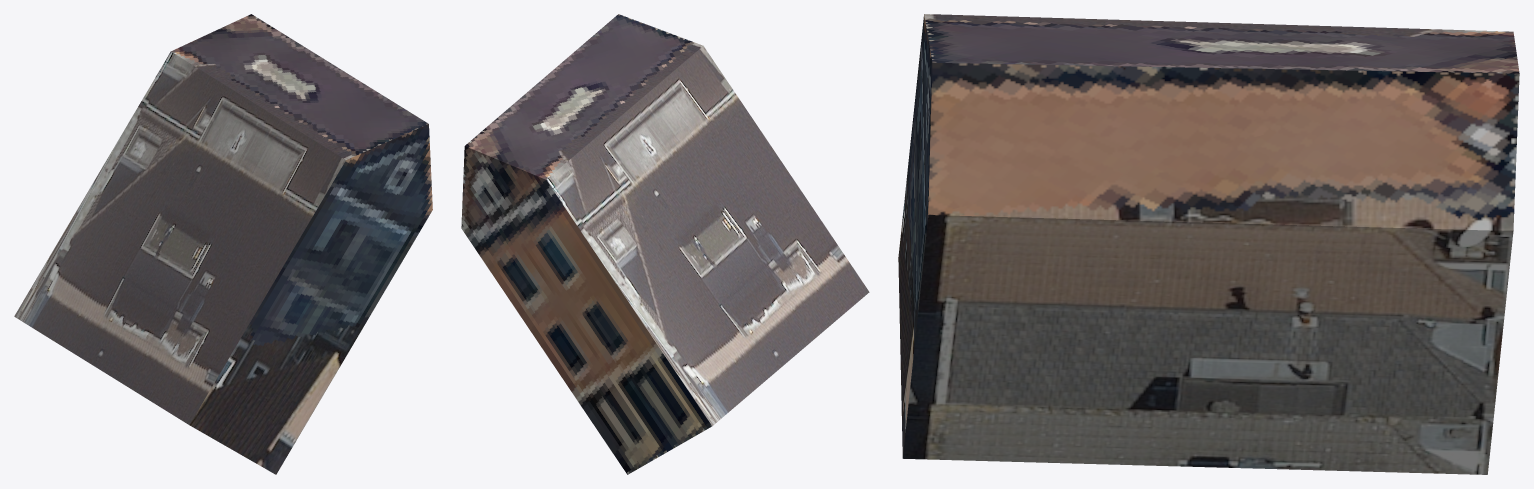
3 renders of one model, left to right at view 1: azimuth 30°, elevation 25°; view 2: azimuth 150°, elevation 25°; view 3: azimuth 270°, elevation 25°, orthographic. The views are drawn at different scales.
Parts seen in each view (by area): view 1: BAG_0599100000688734 (×2); view 2: BAG_0599100000688734 (×3); view 3: BAG_0599100000688734 (×2).
Part boxes in pixels (x1,y1,x2,y2): BAG_0599100000688734 (×2): (14, 14, 432, 474); BAG_0599100000688734 (×3): (461, 14, 869, 474); BAG_0599100000688734 (×2): (898, 14, 1519, 474).
Bounding box in the file's own units: 10.79 × 12.68 × 12.85.
Materials: 3 (3 with a texture image).
